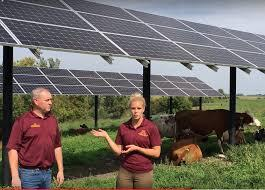cow: (173, 109, 261, 154)
